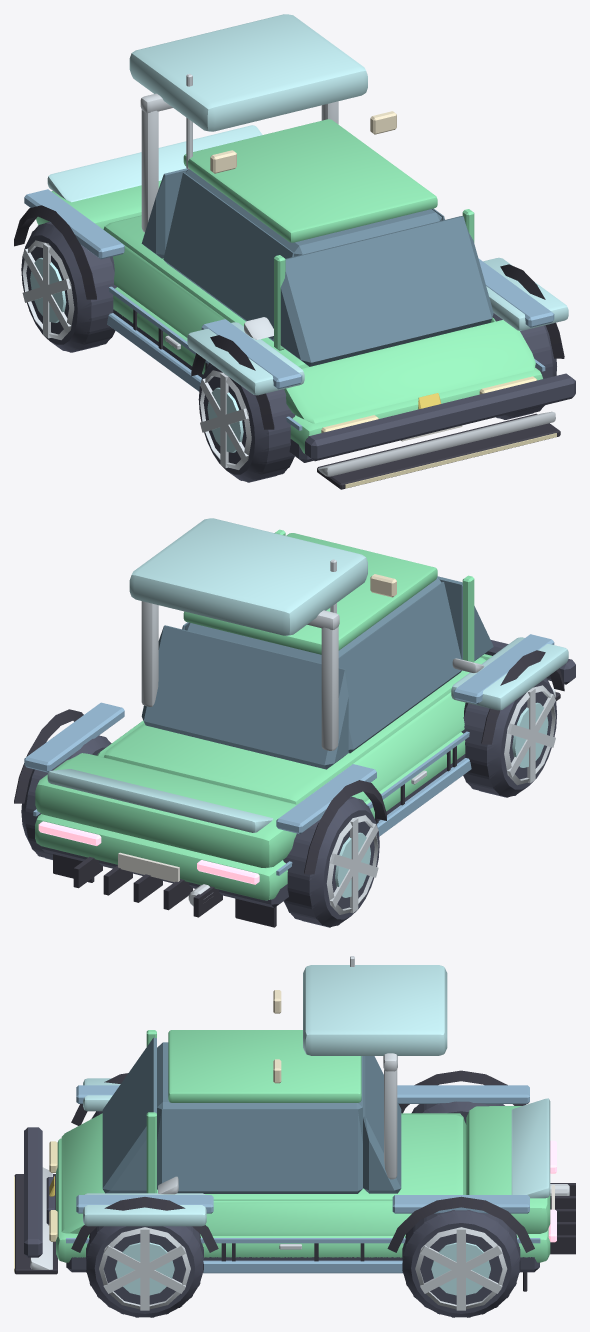
File: canyon_bison.fbx
3 renders of one model, top to bottom at view 1: azimuth 30°, elevation 25°; view 2: azimuth 150°, elevation 25°; view 3: azimuth 270°, elevation 25°, orthographic. The views are drawn at different scales.
Visible parts, largest first — view 1: Body, Glass, Accent3, Accent, Trim2, Trim, Accent2, Wheel_RR, Metal, Wheel_FR, Metal2, Light (+2 smaller); view 2: Body, Glass, Accent3, Accent, Trim, Metal, Wheel_RR, Accent2, Wheel_FR, Trim2, Metal2, Wheel_RL (+2 smaller); view 3: Body, Glass, Accent3, Accent, Trim, Metal, Wheel_RL, Wheel_FL, Trim2, Accent2, Metal2, Wheel_RR (+2 smaller).
Boxes of the visible parts, x1,y1,x2,y2 form: Body: (36,119,542,453); Glass: (141,168,493,366); Accent3: (47,14,568,395); Accent: (24,189,554,430); Trim2: (113,309,575,462); Trim: (14,205,564,489); Accent2: (140,74,555,476); Wheel_RR: (21,222,116,352); Metal: (22,240,251,469); Wheel_FR: (198,362,295,482); Metal2: (30,257,243,452); Light: (321,376,556,488); Body: (35,529,491,900); Glass: (141,576,493,769); Accent3: (47,518,568,832); Accent: (24,634,554,875); Trim: (14,650,564,927); Metal: (22,685,555,914); Wheel_RR: (283,796,379,927); Accent2: (141,559,555,750); Wheel_FR: (461,678,556,797); Trim2: (40,640,575,907); Metal2: (335,702,548,897); Wheel_RL: (21,735,111,859); Body: (56,1030,550,1262); Glass: (102,1037,401,1193); Accent3: (83,965,550,1226); Accent: (66,1085,540,1273); Trim: (14,1070,575,1291); Metal: (99,1184,569,1310); Wheel_RL: (402,1210,520,1317); Wheel_FL: (86,1226,203,1317); Trim2: (24,1127,539,1272); Accent2: (30,956,397,1269); Metal2: (115,1242,490,1295); Wheel_RR: (411,1101,504,1124).
Size of the model in its own units: 3.16 by 2.87 by 5.46.
